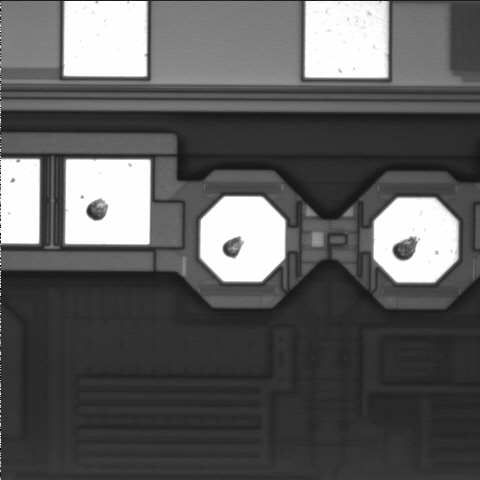pad: (65, 159, 150, 244), (200, 197, 285, 282), (374, 198, 458, 282)
